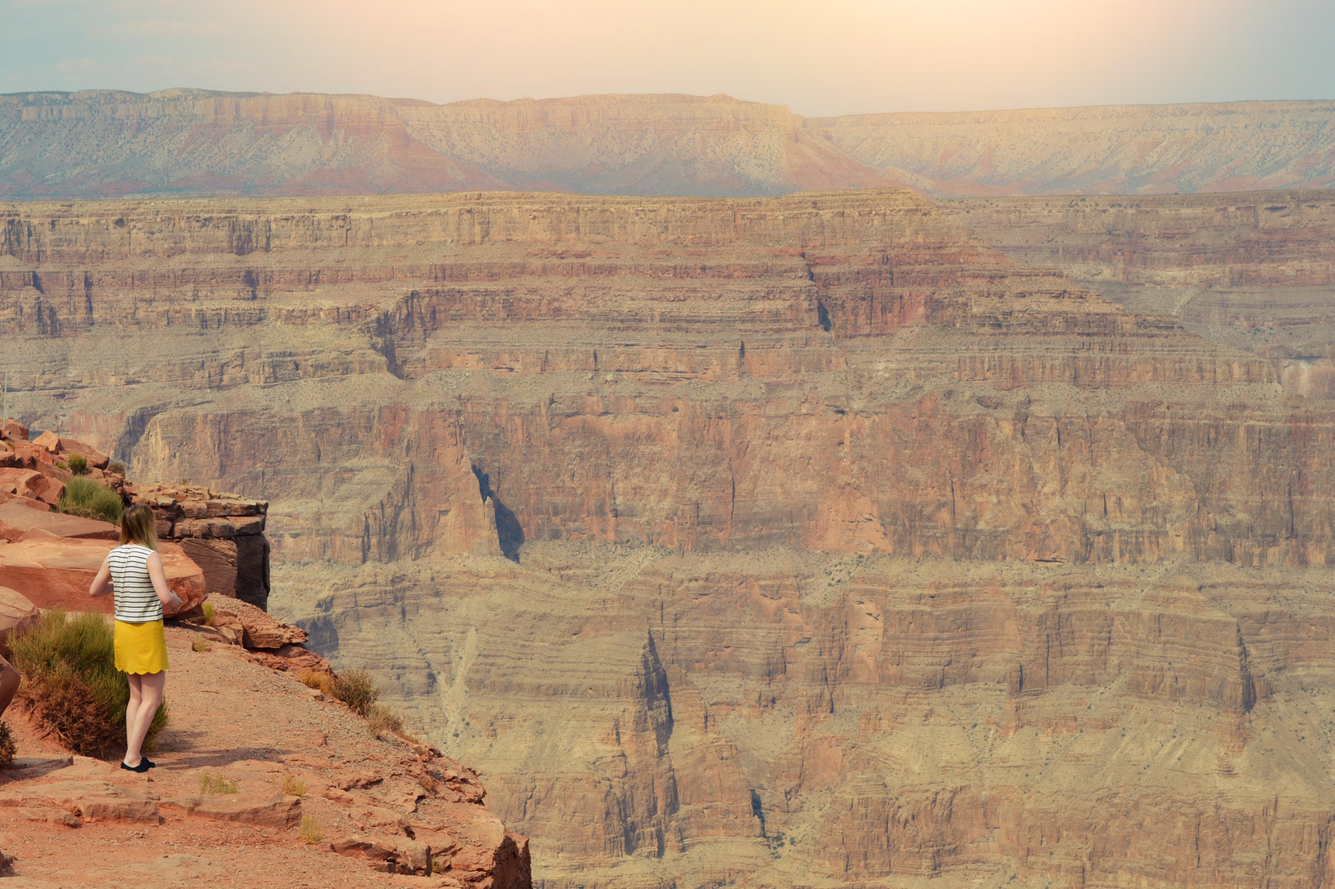person: (88, 501, 185, 783)
